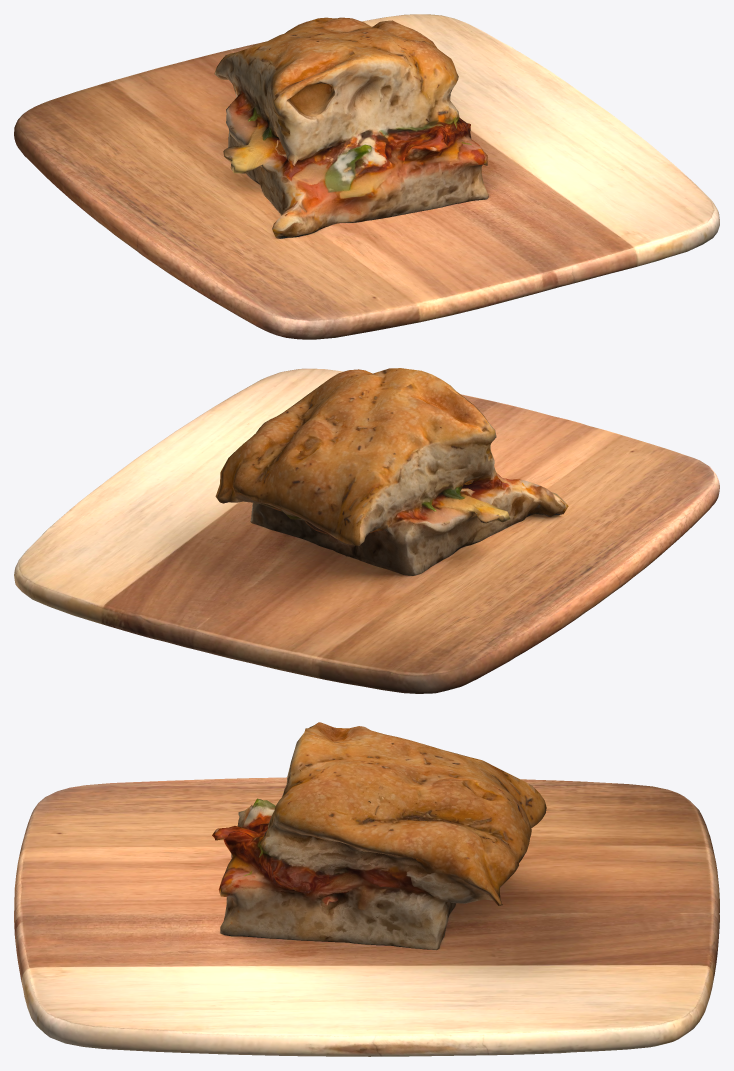
Rendered from sandwich.glb.
3 views of the same model, one above another, from view 1: azimuth 30°, elevation 25°; view 2: azimuth 150°, elevation 25°; view 3: azimuth 270°, elevation 25° (orthographic). The views are drawn at different scales.
Parts seen in each view (by area): view 1: tlsmehtjw_LOD0_TIER2_000_MatID_1_0, Retopo; view 2: tlsmehtjw_LOD0_TIER2_000_MatID_1_0, Retopo; view 3: tlsmehtjw_LOD0_TIER2_000_MatID_1_0, Retopo.
Boxes of the visible parts, x1,y1,x2,y2 form: tlsmehtjw_LOD0_TIER2_000_MatID_1_0: (14,14,719,339); Retopo: (214,17,488,238); tlsmehtjw_LOD0_TIER2_000_MatID_1_0: (14,368,719,693); Retopo: (215,368,568,575); tlsmehtjw_LOD0_TIER2_000_MatID_1_0: (14,777,719,1056); Retopo: (212,722,546,949).
Size of the model in its own units: 0.2243 by 0.0697 by 0.253.
2 materials, 2 textured.
